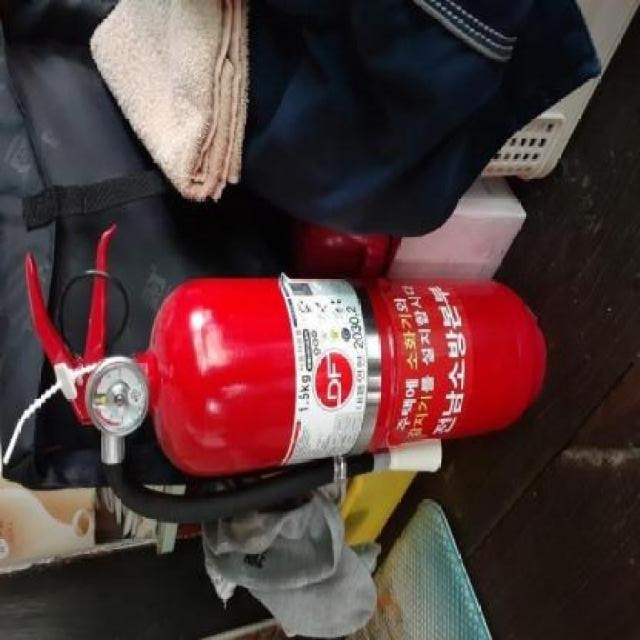fire extinguisher: (25, 222, 547, 522)
